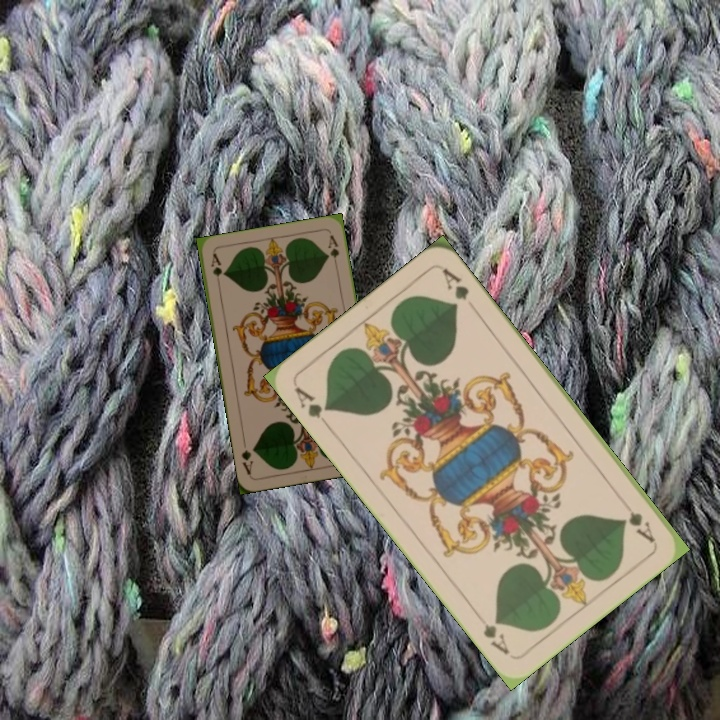GA: (290, 382, 335, 432), (616, 494, 659, 546), (207, 250, 225, 290)
